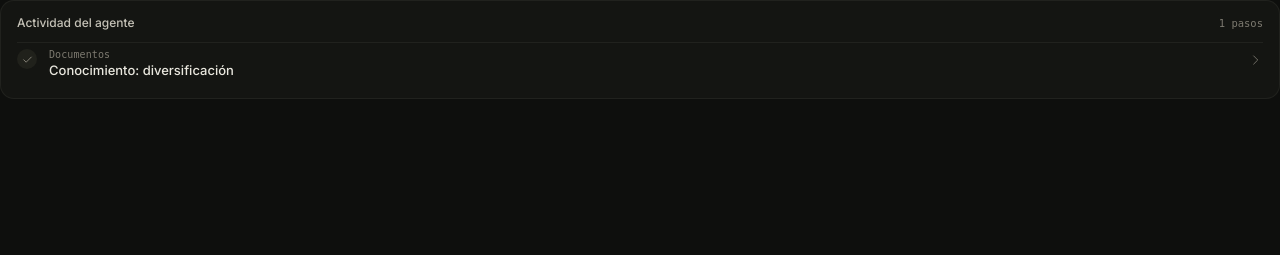
Test case: AgentTrace › no duplica fuentes repetidas dentro de un paso
Click the button with aria-label "Ver detalle de Conocimiento: diversificación": coordinates (80, 54) top-left (49, 49), bottom-right (1263, 92)
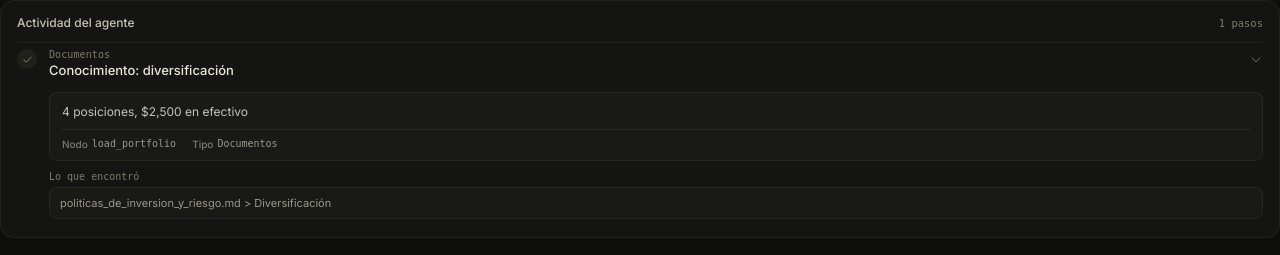
expect the text "politicas_de_inversion_y_riesgo.md > Diversificación" is shown once: met, box top-left (60, 196), bottom-right (331, 210)
